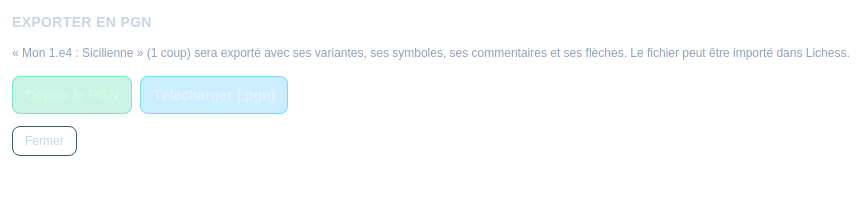
PgnExportPanel › explique quand la copie est impossible
The width and height of the screenshot is (866, 201).
Click the button "Copier le PGN" at (72, 94), box [12,76,132,114]
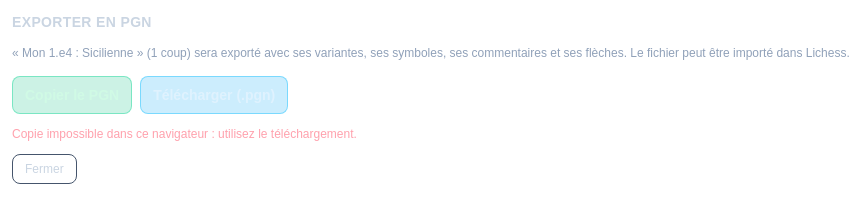
Expected: the text "Copie impossible dans ce navigateur : utilisez le téléchargement." is shown, [12,126,357,140]
